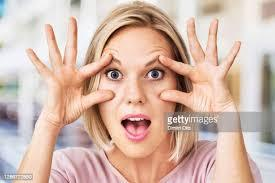opened: (98, 54, 174, 92)
